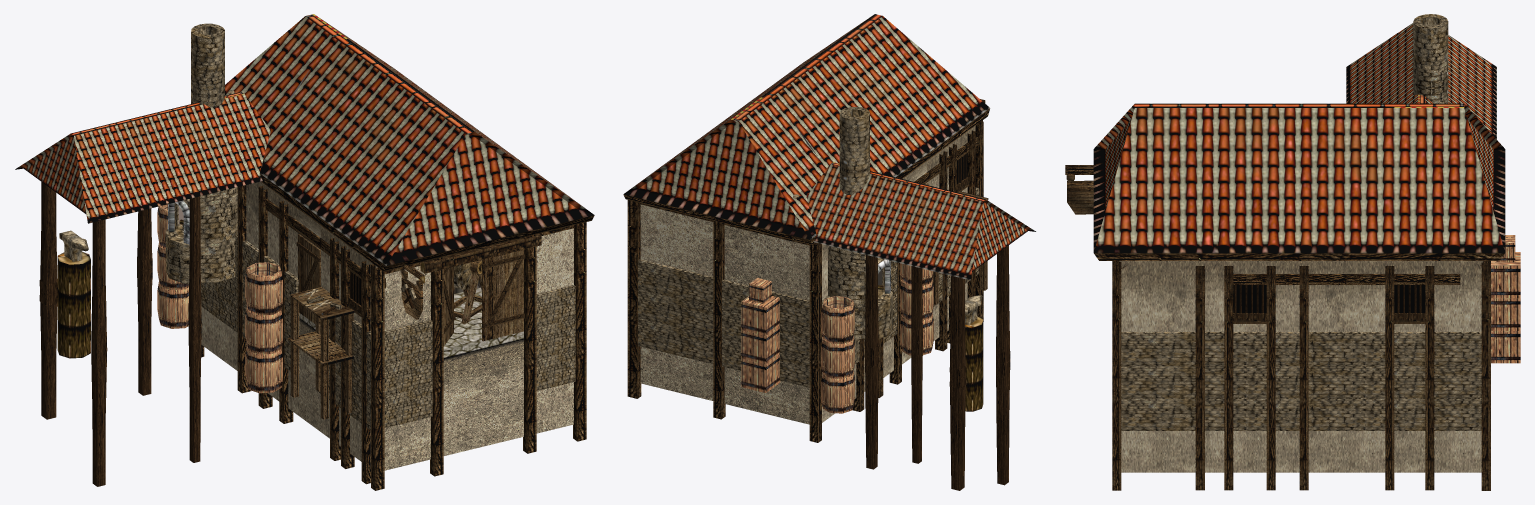
Rendered from forge.dae.
3 views of the same model, side by side, from view 1: azimuth 30°, elevation 25°; view 2: azimuth 150°, elevation 25°; view 3: azimuth 270°, elevation 25° (orthographic). The views are drawn at different scales.
Visible parts, largest first — view 1: forge; view 2: forge; view 3: forge.
Boxes of the visible parts, x1,y1,x2,y2 form: forge: (15, 14, 594, 490); forge: (623, 14, 1035, 490); forge: (1065, 14, 1520, 490).
Size of the model in its own units: 17.78 by 17.75 by 17.6.
